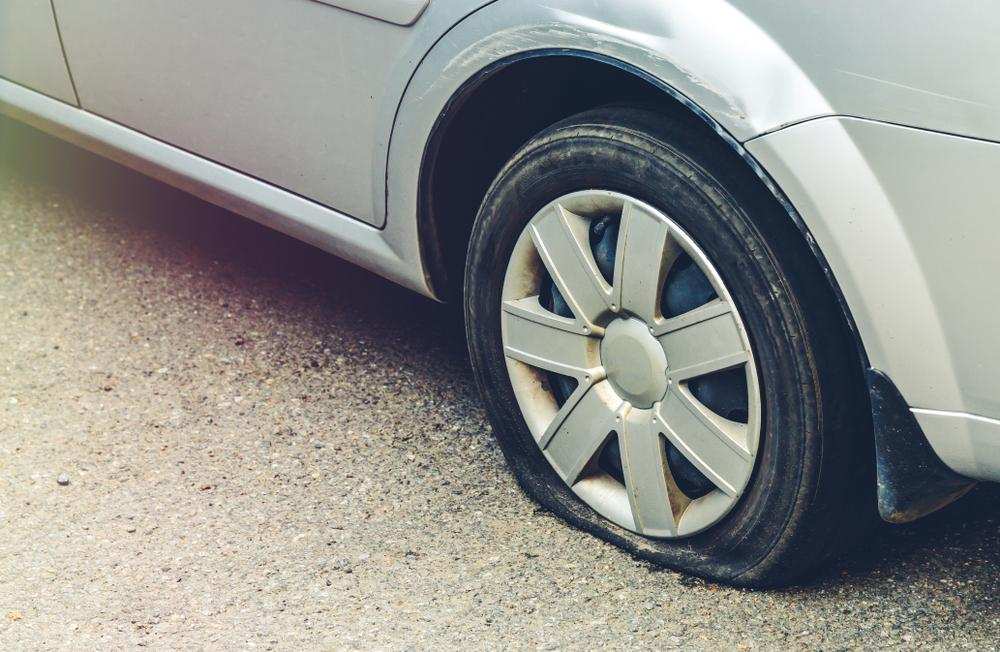scratch: (422, 21, 759, 130)
tire flat: (465, 101, 860, 586)
